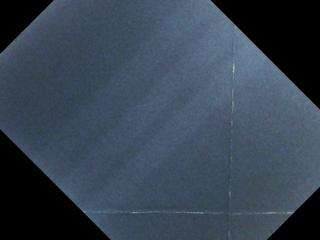crack: (220, 22, 244, 240), (80, 202, 295, 224)
